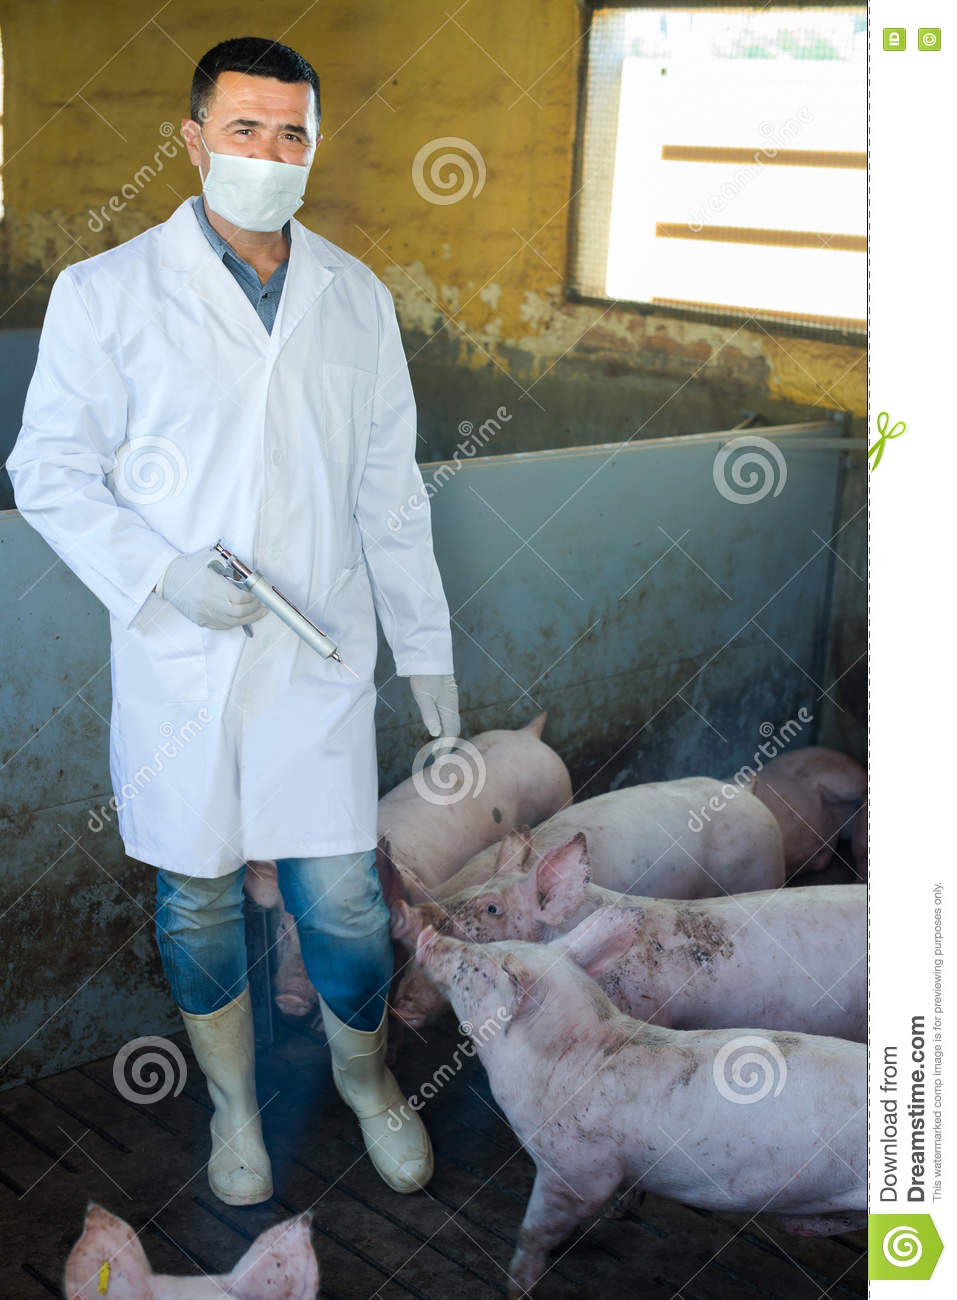mask: (212, 157, 312, 253)
